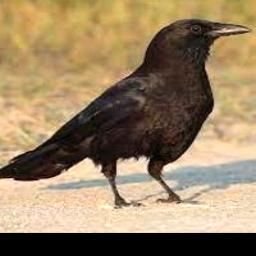Crow: (0, 19, 252, 208)
